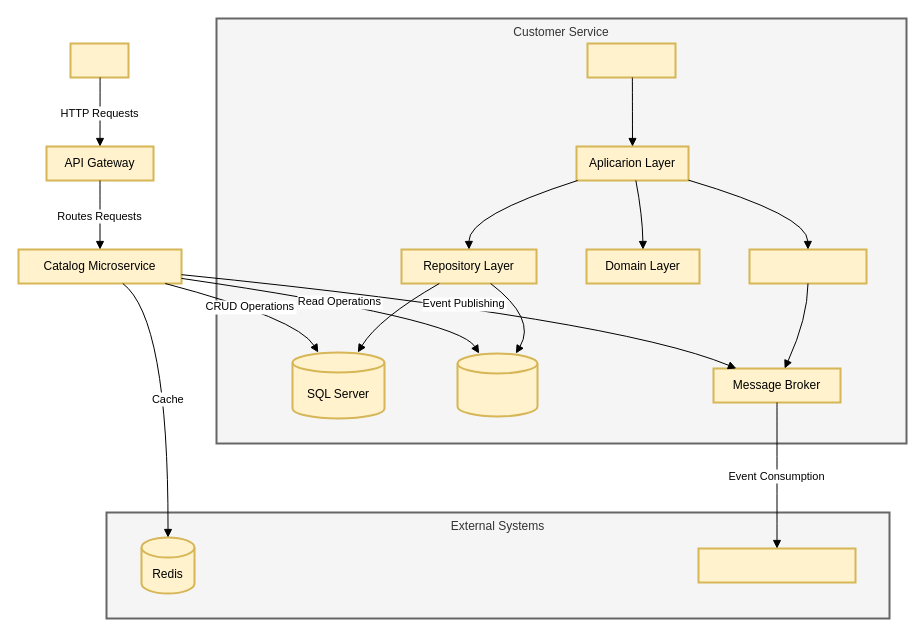
Image size: 924x636. Some labels were removed from this diagram. The shapes that lost their labels are listed below. From the top down, each one's box as (x1, y1, x2, y2) in pixels, then its label:
(69, 42, 129, 78): Client
(586, 42, 676, 78): Controller
(748, 248, 867, 284): Event Handler
(456, 352, 538, 417): MongoDB
(697, 547, 856, 583): Other Microservices
